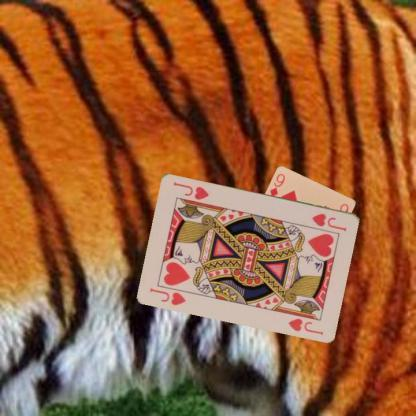9d: (268, 171, 286, 199)
Jh: (310, 210, 348, 233), (148, 286, 188, 306)
